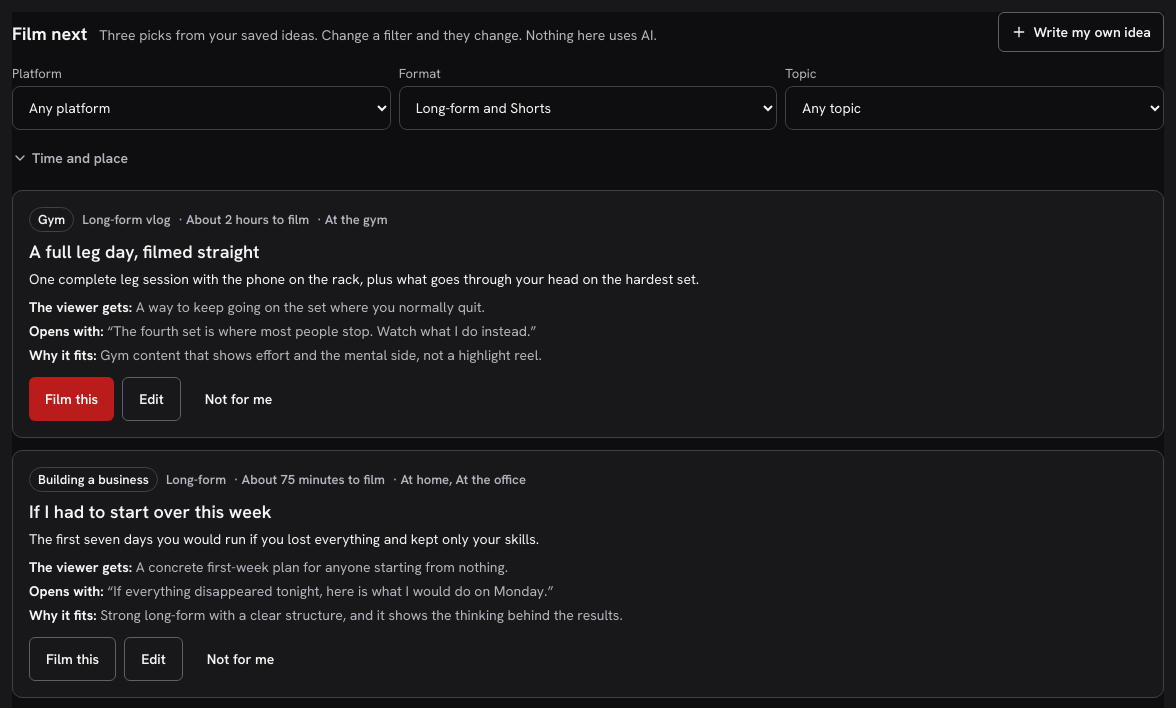
Film next: filters › keeps time and place out of the way until asked, then filters by them
The width and height of the screenshot is (1176, 708).
expect the field labelled "Time to film" is not shown: met
Click the button "Time and place" at (70, 158), box [12, 138, 128, 178]
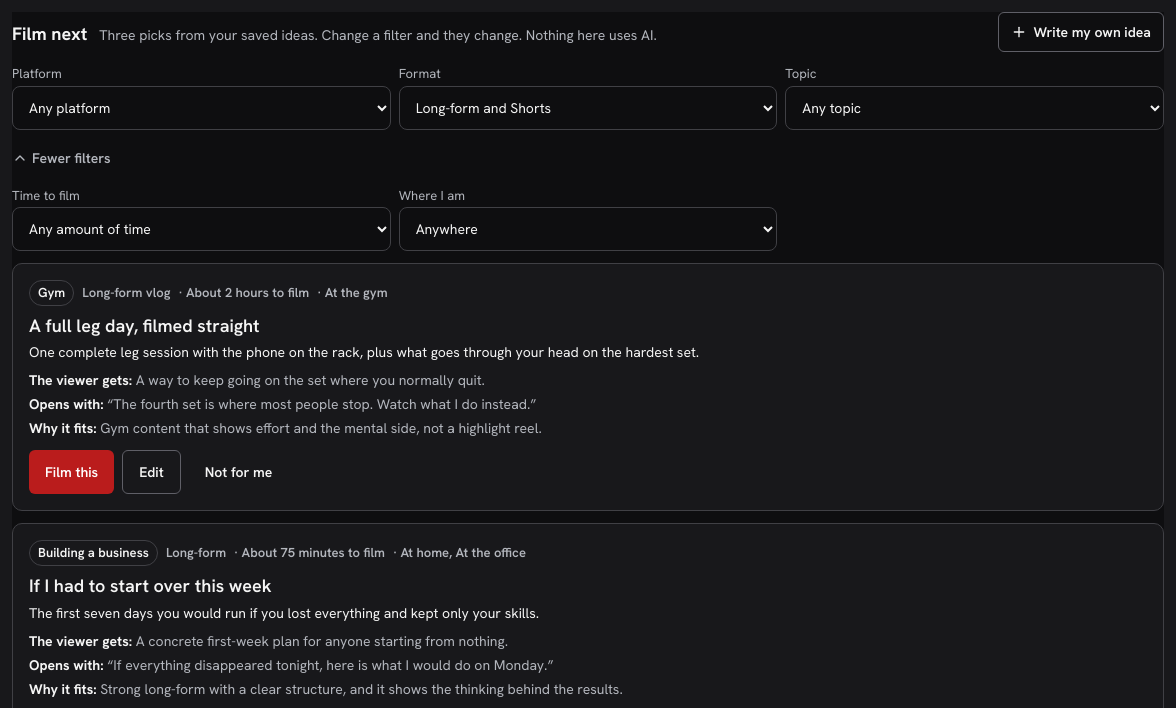
Select "Up to 20 minutes" in the dropdown labelled "Time to film" at (201, 229), box [12, 207, 391, 251]
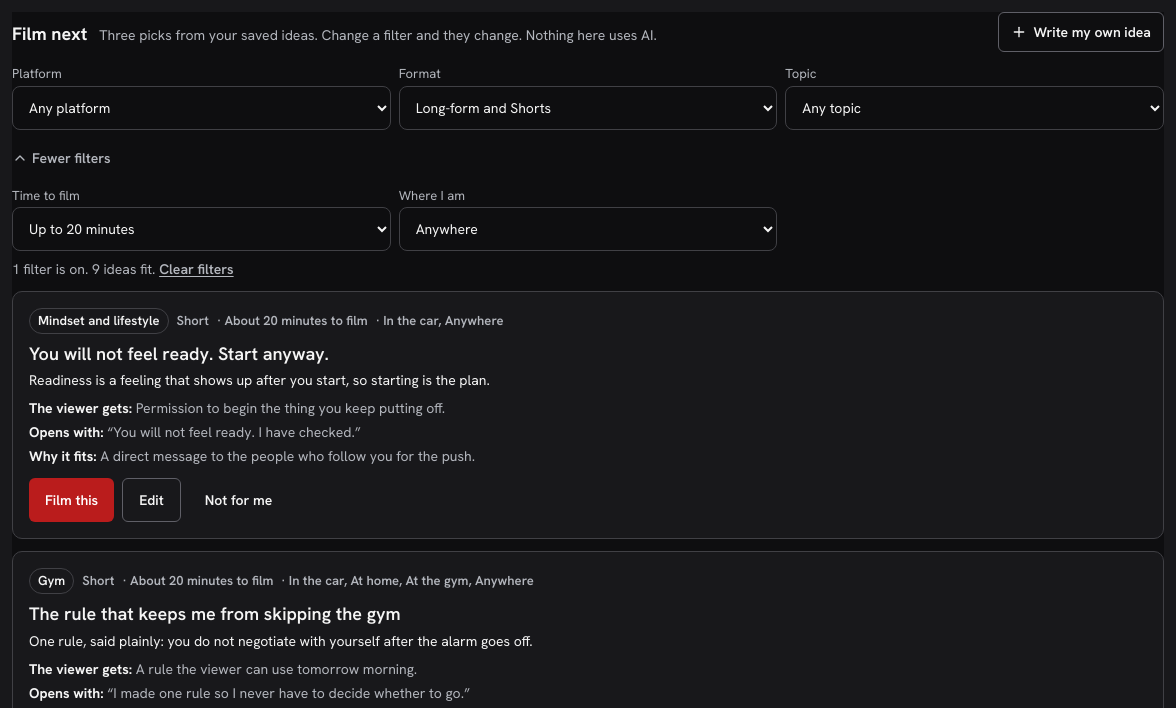
Select "In the car" in the dropdown labelled "Where I am" at (588, 229), box [399, 207, 777, 251]
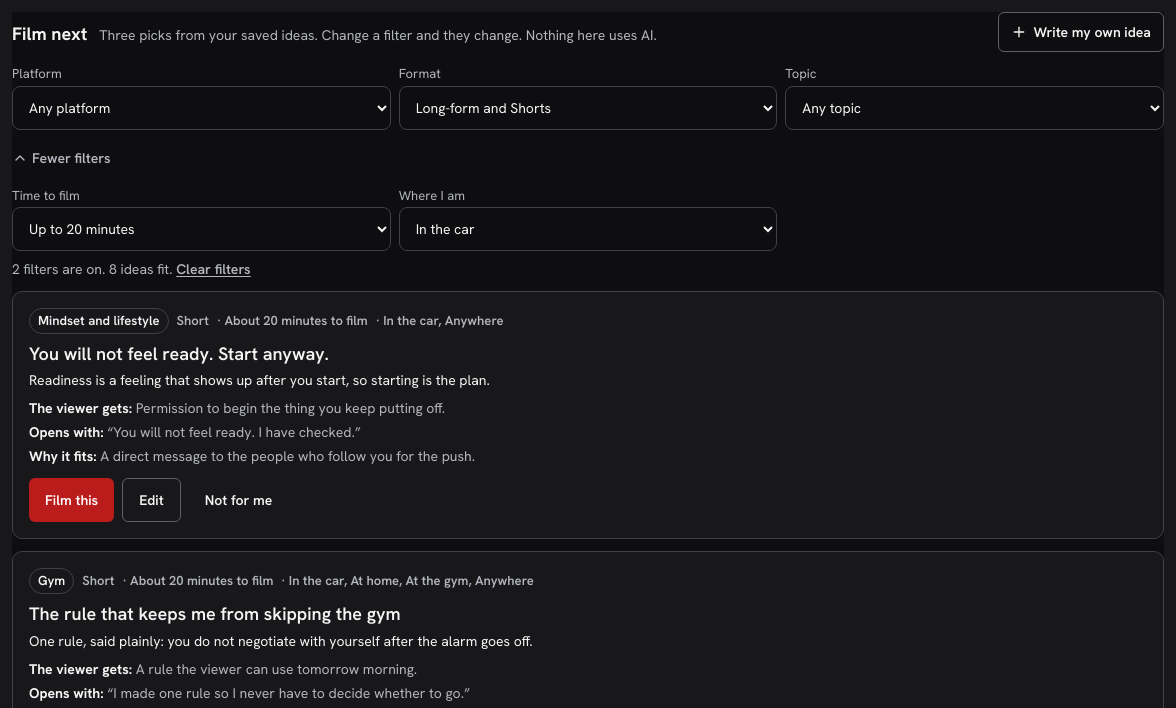
expect the message shows "2 filters are on": met, box [12, 259, 251, 279]
